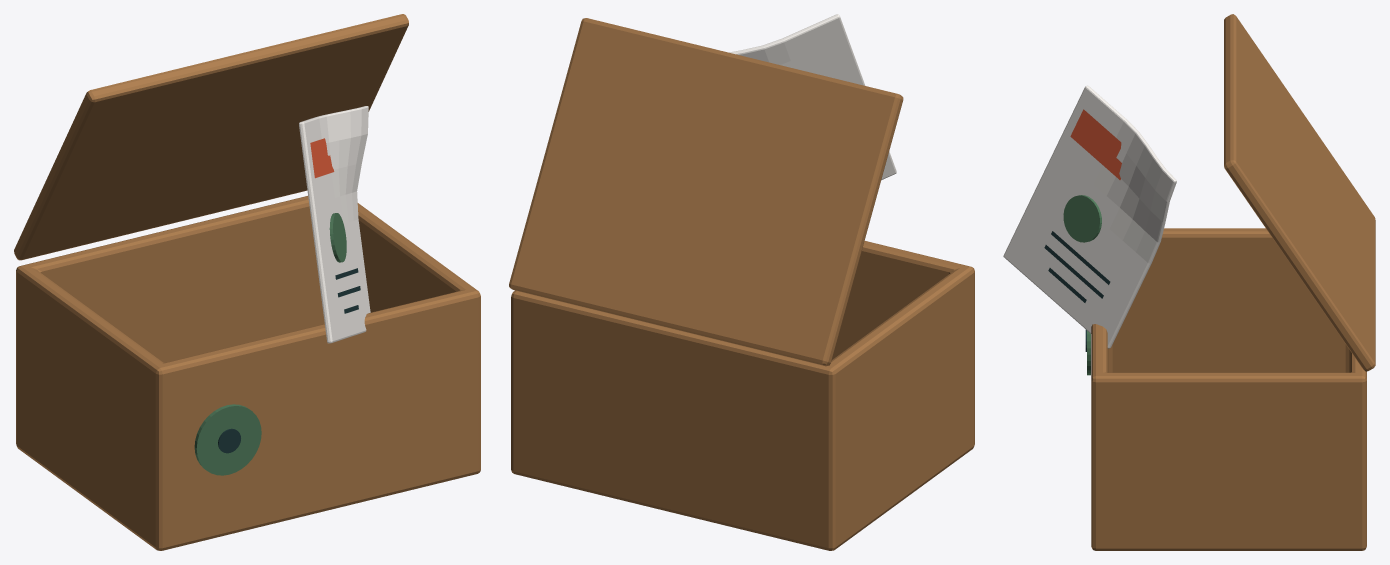
Rendered from recipe-box.glb.
3 views of the same model, side by side, from view 1: azimuth 30°, elevation 25°; view 2: azimuth 150°, elevation 25°; view 3: azimuth 270°, elevation 25° (orthographic). The views are drawn at different scales.
Visible parts, largest first — view 1: Box_Body, Box_Lid, RecipeCard, Box_Seal, RecipeCard_Icon, RecipeCard_Stripe; view 2: Box_Lid, Box_Body, RecipeCard; view 3: Box_Body, Box_Lid, RecipeCard, RecipeCard_Stripe, RecipeCard_Icon.
Part boxes in pixels (x1,y1,x2,y2): Box_Body: (16, 196, 480, 550); Box_Lid: (14, 14, 408, 260); RecipeCard: (299, 106, 370, 343); Box_Seal: (194, 404, 261, 475); RecipeCard_Icon: (329, 213, 346, 262); RecipeCard_Stripe: (310, 138, 334, 178); Box_Lid: (509, 18, 903, 366); Box_Body: (511, 241, 974, 550); RecipeCard: (729, 14, 896, 179); Box_Body: (1091, 228, 1366, 550); Box_Lid: (1224, 14, 1375, 371); RecipeCard: (1003, 85, 1176, 348); RecipeCard_Stripe: (1070, 109, 1121, 179); RecipeCard_Icon: (1063, 195, 1101, 242).
Size of the model in its own units: 0.26 by 0.312 by 0.2698.
